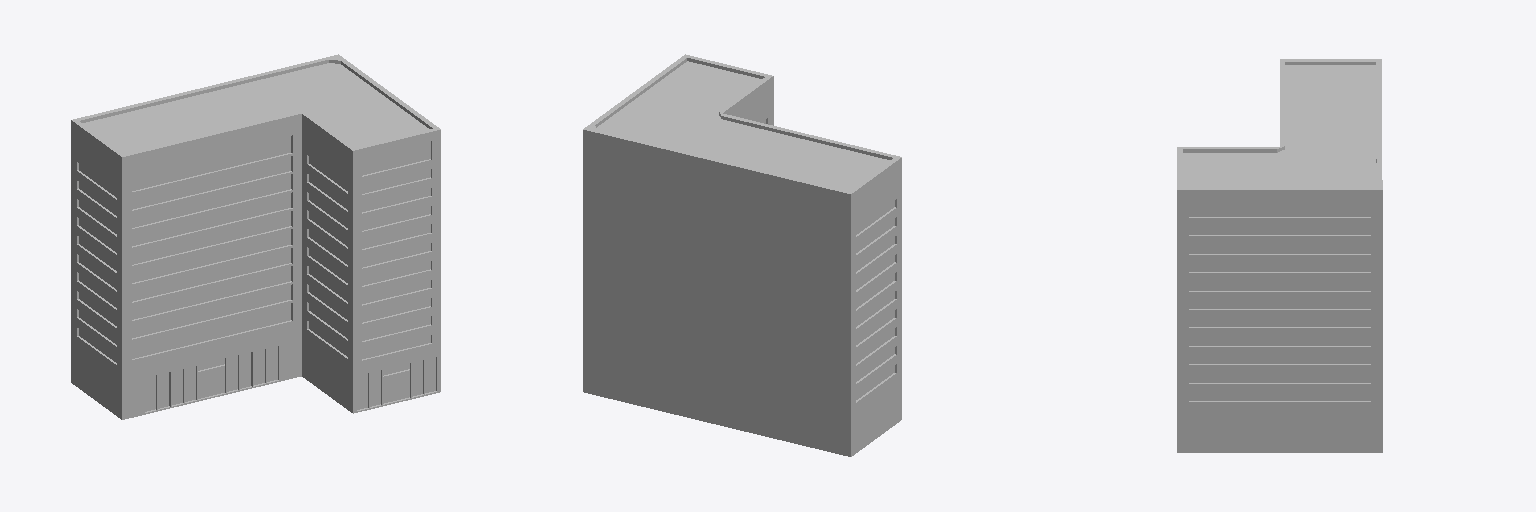
Rendered from building.obj.
3 renders of one model, left to right at view 1: azimuth 30°, elevation 25°; view 2: azimuth 150°, elevation 25°; view 3: azimuth 270°, elevation 25°, orthographic.
Visible parts, largest first — view 1: Building10; view 2: Building10; view 3: Building10.
Boxes of the visible parts, x1,y1,x2,y2 form: Building10: [71, 54, 440, 419]; Building10: [583, 54, 901, 456]; Building10: [1177, 59, 1382, 452].
Bounding box in the file's own units: 3.68 × 3.45 × 2.44.